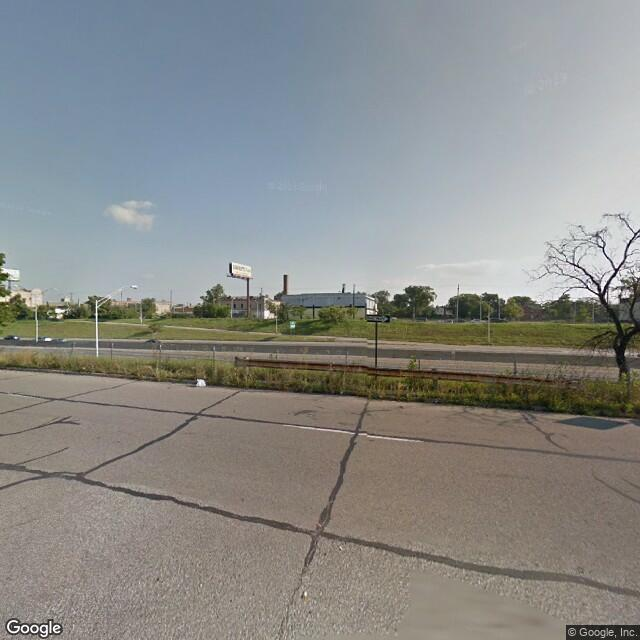litter: (191, 376, 205, 393)
